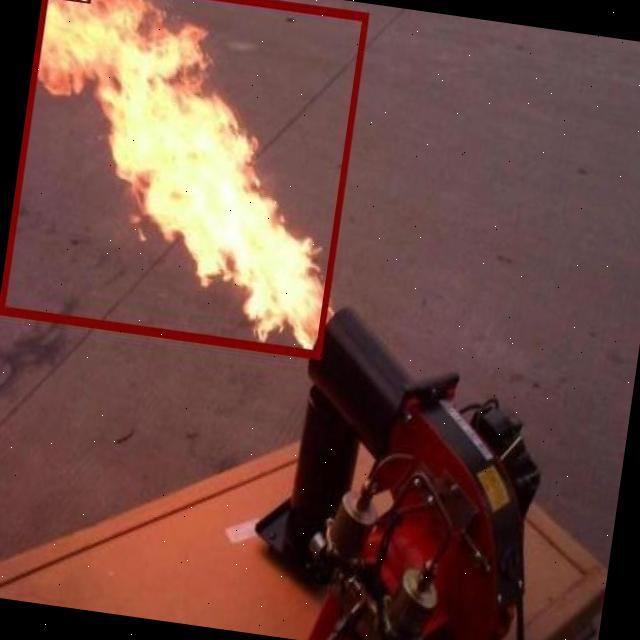fire: (0, 0, 367, 358)
